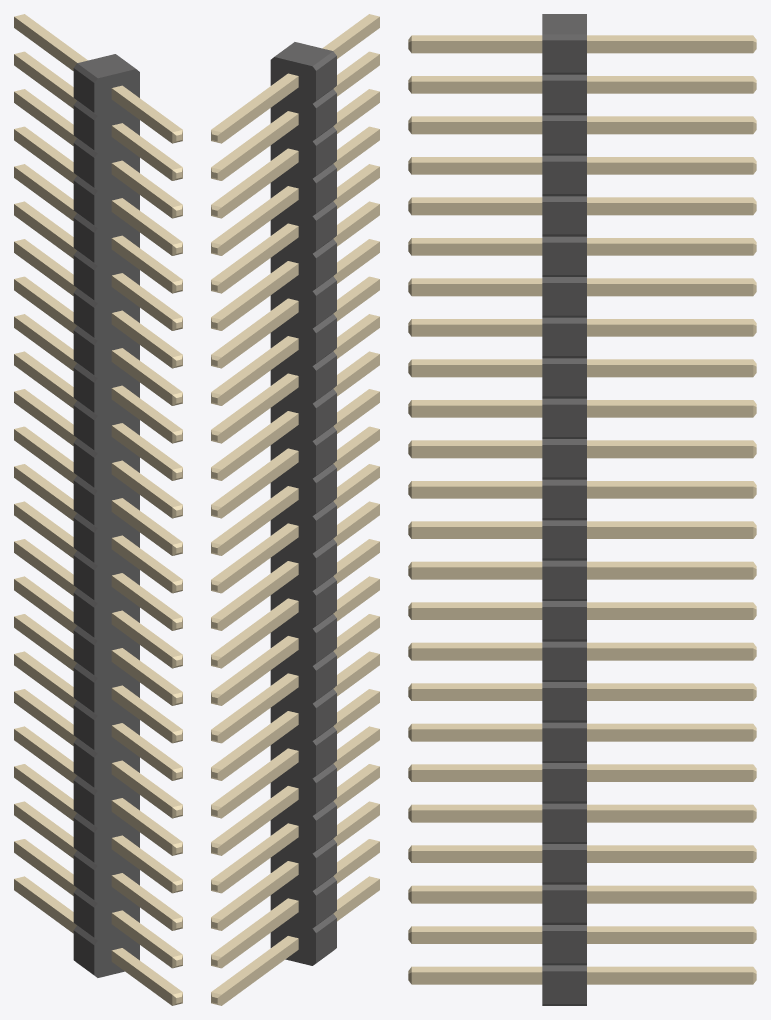
The model's file is PinHeader_1x24_P1.00mm_Vertical.glb.
3 renders of one model, left to right at view 1: azimuth 30°, elevation 25°; view 2: azimuth 150°, elevation 25°; view 3: azimuth 270°, elevation 25°, orthographic. The views are drawn at different scales.
Parts seen in each view (by area): view 1: Shape_IndexedFaceSet.003, Shape_IndexedFaceSet.001, Shape_IndexedFaceSet.167, Shape_IndexedFaceSet.223, Shape_IndexedFaceSet.159, Shape_IndexedFaceSet.171, Shape_IndexedFaceSet.192, Shape_IndexedFaceSet.152, Shape_IndexedFaceSet.172, Shape_IndexedFaceSet.180, Shape_IndexedFaceSet.187, Shape_IndexedFaceSet.211 (+110 smaller); view 2: Shape_IndexedFaceSet.004, Shape_IndexedFaceSet.263, Shape_IndexedFaceSet.319, Shape_IndexedFaceSet.288, Shape_IndexedFaceSet.339, Shape_IndexedFaceSet.255, Shape_IndexedFaceSet.267, Shape_IndexedFaceSet.276, Shape_IndexedFaceSet.307, Shape_IndexedFaceSet.321, Shape_IndexedFaceSet.329, Shape_IndexedFaceSet.248 (+110 smaller); view 3: Shape_IndexedFaceSet.245, Shape_IndexedFaceSet.261, Shape_IndexedFaceSet.278, Shape_IndexedFaceSet.281, Shape_IndexedFaceSet.293, Shape_IndexedFaceSet.337, Shape_IndexedFaceSet.253, Shape_IndexedFaceSet.257, Shape_IndexedFaceSet.298, Shape_IndexedFaceSet.302, Shape_IndexedFaceSet.305, Shape_IndexedFaceSet.309 (+109 smaller).
Part boxes in pixels (<box>): Shape_IndexedFaceSet.003: <box>94,69,139,977</box>; Shape_IndexedFaceSet.001: <box>77,54,135,78</box>; Shape_IndexedFaceSet.167: <box>111,651,172,705</box>; Shape_IndexedFaceSet.223: <box>111,276,172,330</box>; Shape_IndexedFaceSet.159: <box>111,463,172,518</box>; Shape_IndexedFaceSet.171: <box>111,613,172,668</box>; Shape_IndexedFaceSet.192: <box>111,763,172,818</box>; Shape_IndexedFaceSet.152: <box>111,538,172,592</box>; Shape_IndexedFaceSet.172: <box>111,688,172,742</box>; Shape_IndexedFaceSet.180: <box>111,876,172,930</box>; Shape_IndexedFaceSet.187: <box>111,801,172,855</box>; Shape_IndexedFaceSet.211: <box>111,388,172,443</box>; Shape_IndexedFaceSet.004: <box>270,57,315,965</box>; Shape_IndexedFaceSet.263: <box>221,639,298,705</box>; Shape_IndexedFaceSet.319: <box>221,264,298,330</box>; Shape_IndexedFaceSet.288: <box>221,751,298,818</box>; Shape_IndexedFaceSet.339: <box>221,938,298,1005</box>; Shape_IndexedFaceSet.255: <box>221,451,298,518</box>; Shape_IndexedFaceSet.267: <box>221,601,298,668</box>; Shape_IndexedFaceSet.276: <box>221,864,298,930</box>; Shape_IndexedFaceSet.307: <box>221,376,298,443</box>; Shape_IndexedFaceSet.321: <box>221,226,298,293</box>; Shape_IndexedFaceSet.329: <box>221,76,298,143</box>; Shape_IndexedFaceSet.248: <box>221,526,298,592</box>; Shape_IndexedFaceSet.245: <box>587,567,753,579</box>; Shape_IndexedFaceSet.261: <box>587,648,753,660</box>; Shape_IndexedFaceSet.278: <box>587,891,753,903</box>; Shape_IndexedFaceSet.281: <box>587,810,753,822</box>; Shape_IndexedFaceSet.293: <box>587,729,753,741</box>; Shape_IndexedFaceSet.337: <box>587,972,753,984</box>; Shape_IndexedFaceSet.253: <box>587,446,753,458</box>; Shape_IndexedFaceSet.257: <box>587,486,753,498</box>; Shape_IndexedFaceSet.298: <box>587,405,753,417</box>; Shape_IndexedFaceSet.302: <box>587,324,753,336</box>; Shape_IndexedFaceSet.305: <box>587,365,753,377</box>; Shape_IndexedFaceSet.309: <box>587,122,753,134</box>.
Size of the model in its own units: 0.5 by 9.45 by 3.07.
